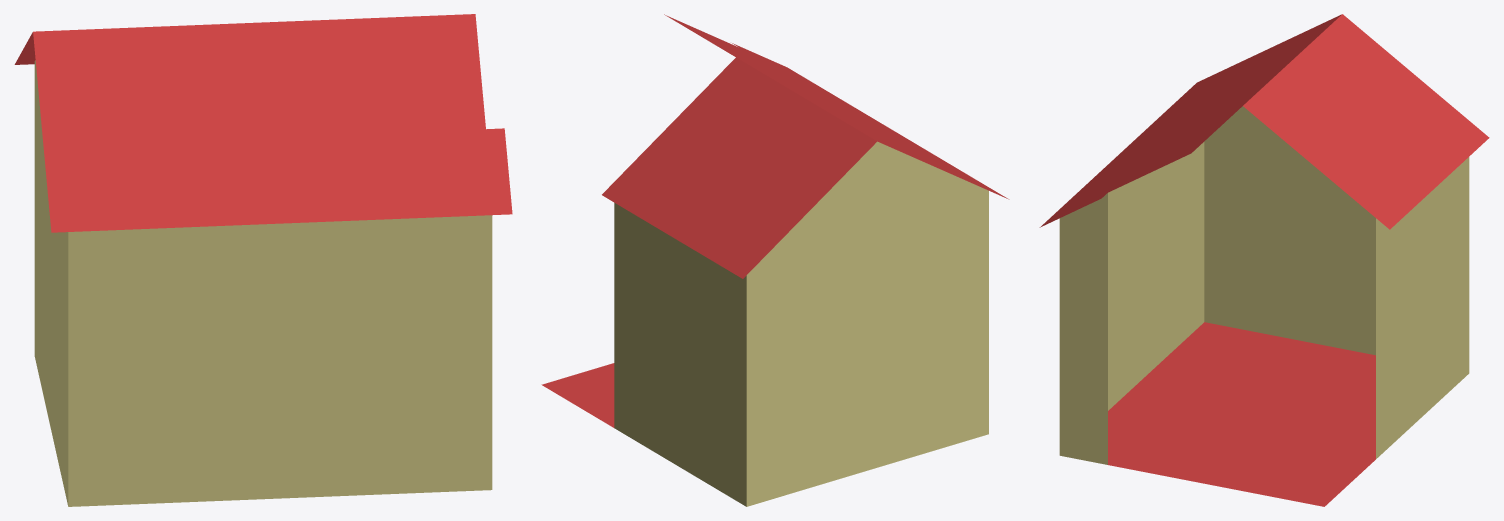
The picture shows the model from 3 angles, left to right: view 1: azimuth 30°, elevation 25°; view 2: azimuth 150°, elevation 25°; view 3: azimuth 270°, elevation 25°; orthographic projection. The views are drawn at different scales.
Size of the model in its own units: 14.96 by 14.72 by 11.82.
